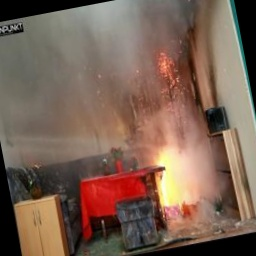fire: (138, 141, 199, 214)
smoke: (54, 0, 198, 154)
